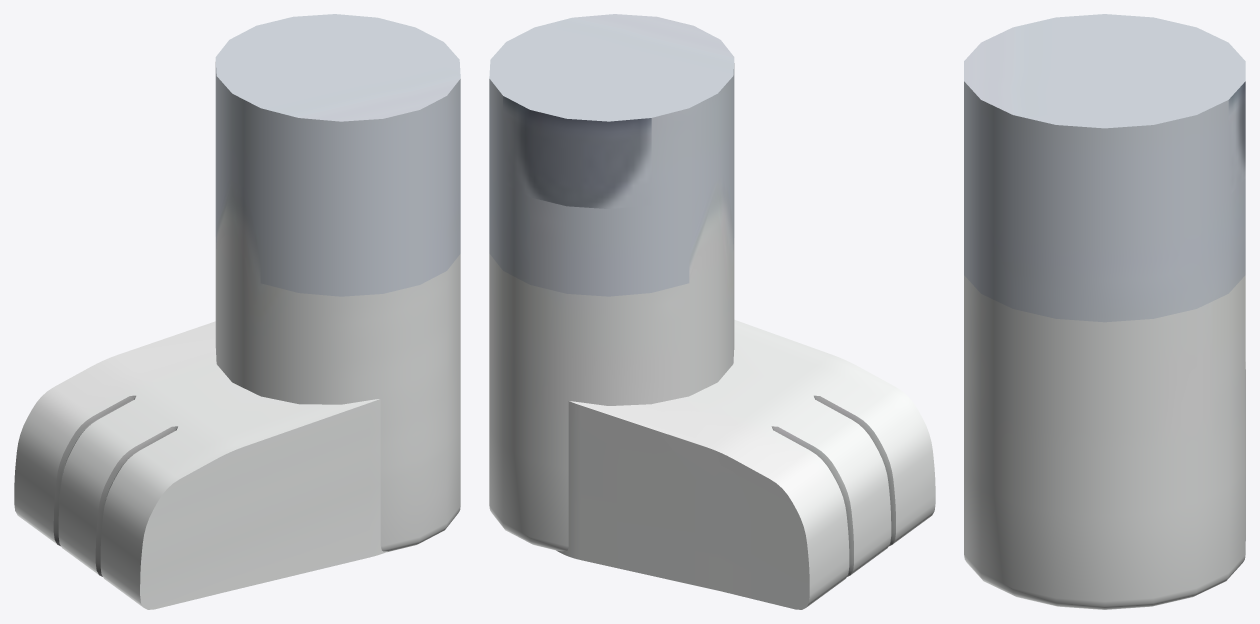
Rendered from patauno_Muffin.obj.
3 renders of one model, left to right at view 1: azimuth 30°, elevation 25°; view 2: azimuth 150°, elevation 25°; view 3: azimuth 270°, elevation 25°, orthographic. The views are drawn at different scales.
Parts seen in each view (by area): view 1: Cylinder004; view 2: Cylinder004; view 3: Cylinder004.
Part boxes in pixels (x1,y1,x2,y2): Cylinder004: [14, 14, 460, 609]; Cylinder004: [489, 14, 935, 609]; Cylinder004: [964, 14, 1245, 609].
Size of the model in its own units: 13.12 by 14.97 by 7.89.
